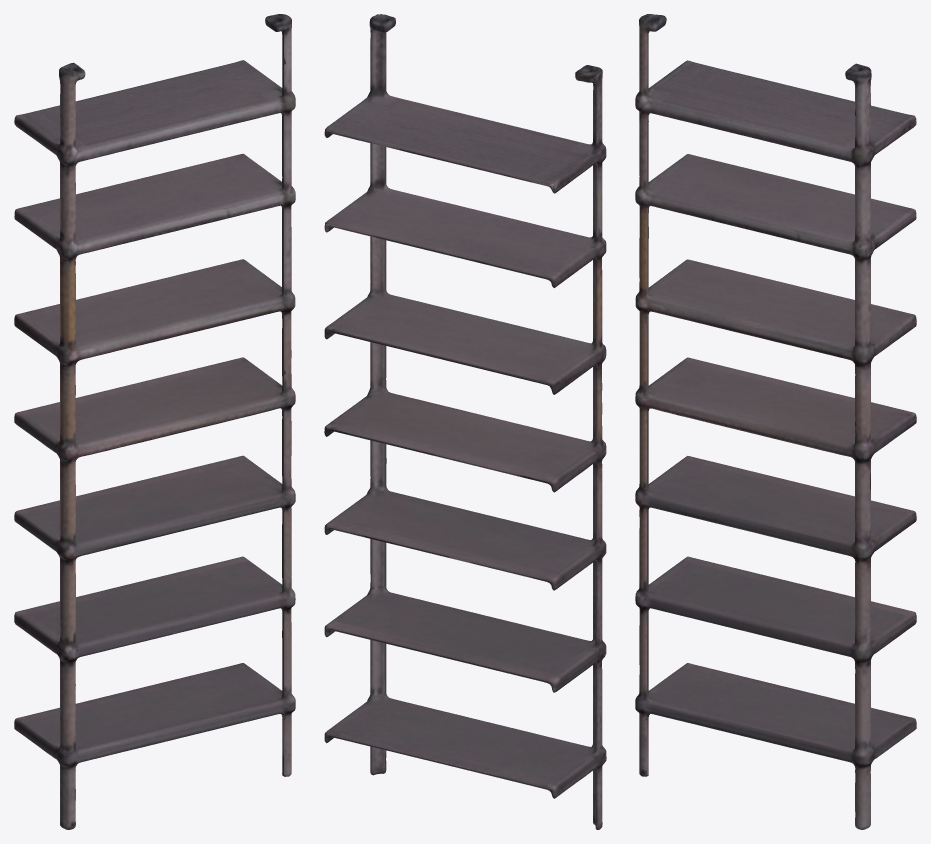
Rendered from product-scandinavian-stairway-96-black-metal-wall-mount-bookcase-01.glb.
3 views of the same model, side by side, from view 1: azimuth 30°, elevation 25°; view 2: azimuth 150°, elevation 25°; view 3: azimuth 330°, elevation 25° (orthographic).
Visible parts, largest first — view 1: geometry_0; view 2: geometry_0; view 3: geometry_0.
Part boxes in pixels (x1,y1,x2,y2): geometry_0: [14, 14, 295, 829]; geometry_0: [324, 14, 606, 829]; geometry_0: [635, 14, 916, 829].
Bounding box in the file's own units: 0.636 × 1.97 × 0.2522.
Materials: 1 (1 with a texture image).
